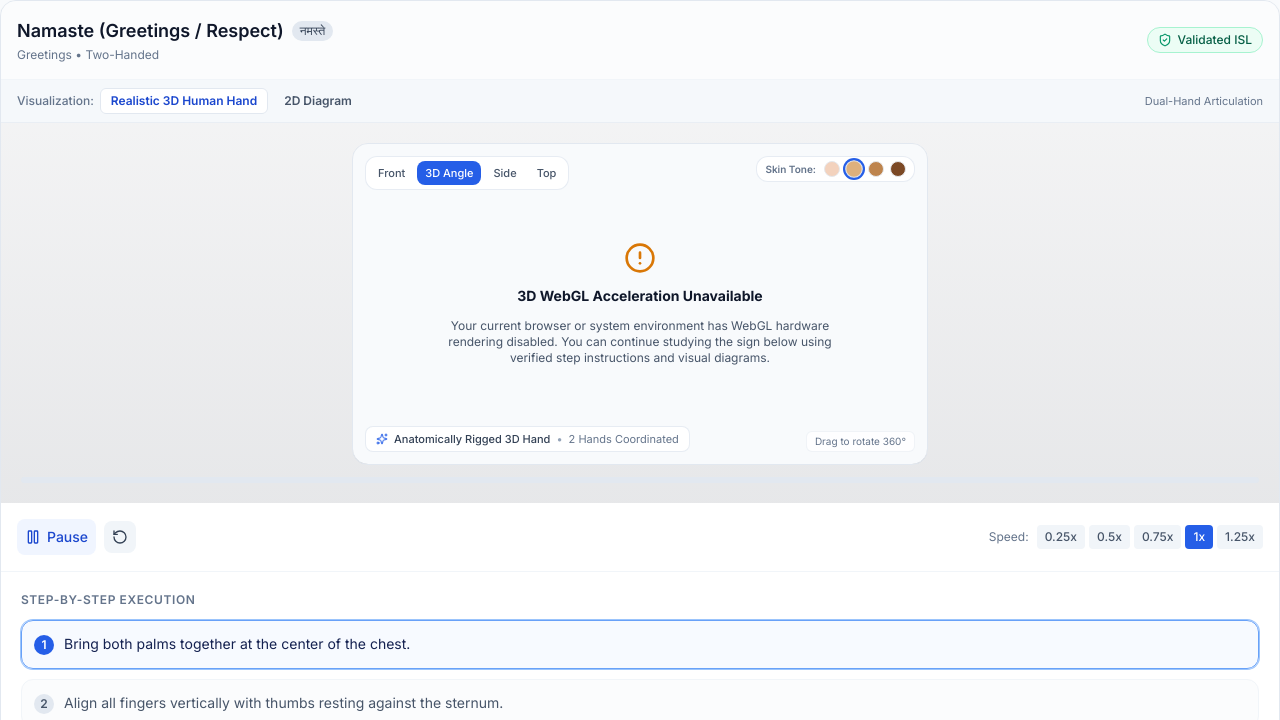
SignVisualizer Component UI › toggles playback pause/play state when button is clicked
The image size is (1280, 720).
Click the button with aria-label "pause animation" at (57, 537), box [17, 519, 96, 555]
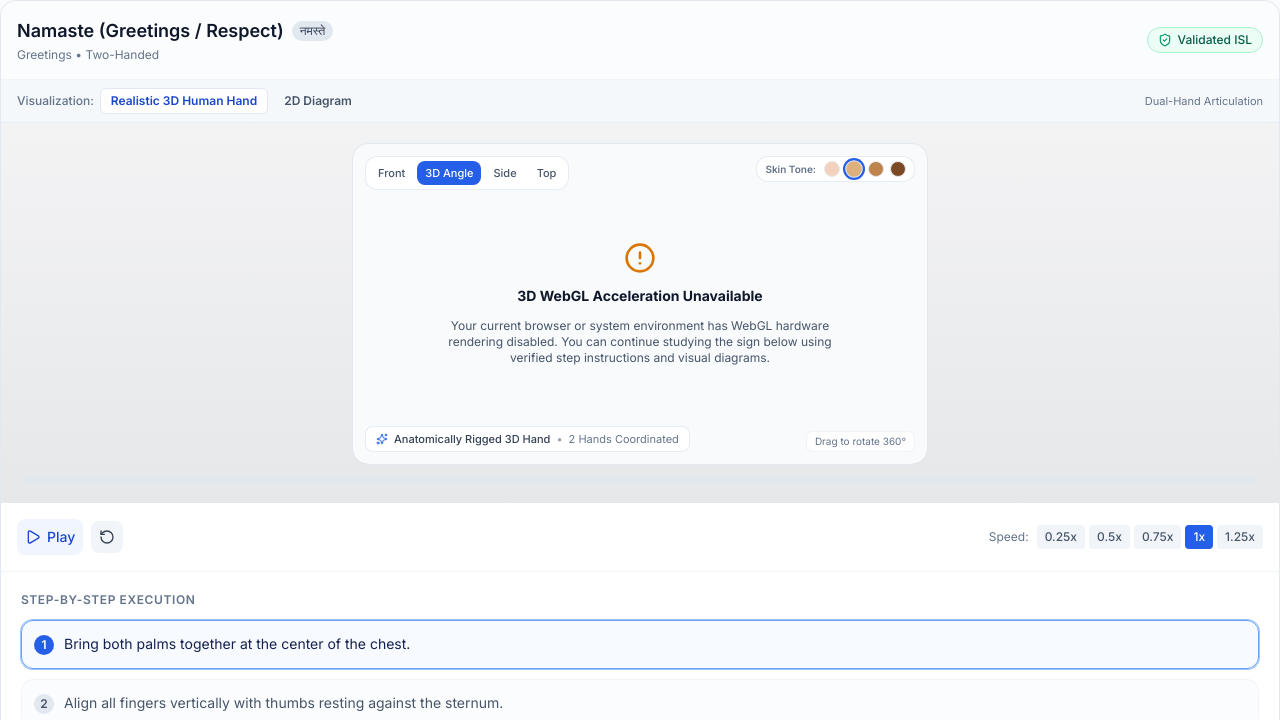
Expected: the button with aria-label "play animation" is shown, [17, 519, 83, 555]
